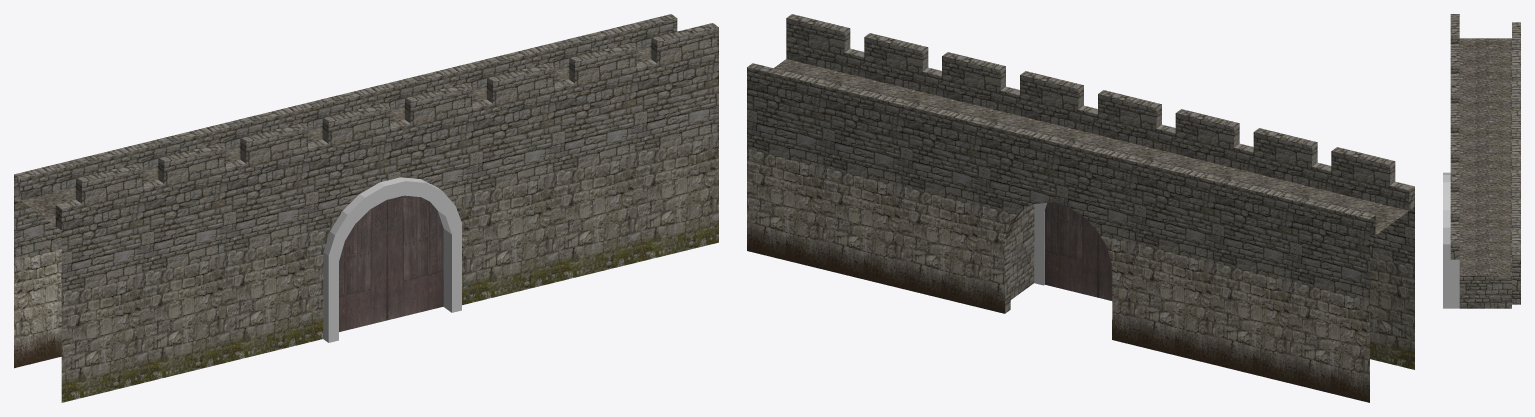
The model's file is poorlords_walls_gate_long.FBX.
3 renders of one model, left to right at view 1: azimuth 30°, elevation 25°; view 2: azimuth 150°, elevation 25°; view 3: azimuth 270°, elevation 25°, orthographic. The views are drawn at different scales.
Visible parts, largest first — view 1: poorlords_walls_gate_long_, Poorlords_wall_gate_doorright_001, Poorlords_wall_gate_arc_001, Poorlords_wall_gate_doorleft_001; view 2: poorlords_walls_gate_long_, Poorlords_wall_gate_doorright_001, Poorlords_wall_gate_arc_001, Poorlords_wall_gate_doorleft_001; view 3: poorlords_walls_gate_long_, Poorlords_wall_gate_arc_001.
Part boxes in pixels (left/top/right/bottom): poorlords_walls_gate_long_: left=14, top=14, right=718, bottom=402; Poorlords_wall_gate_doorright_001: left=387, top=195, right=443, bottom=320; Poorlords_wall_gate_arc_001: left=323, top=177, right=461, bottom=342; Poorlords_wall_gate_doorleft_001: left=339, top=200, right=387, bottom=331; poorlords_walls_gate_long_: left=747, top=14, right=1414, bottom=402; Poorlords_wall_gate_doorright_001: left=1044, top=202, right=1098, bottom=297; Poorlords_wall_gate_arc_001: left=1034, top=203, right=1046, bottom=285; Poorlords_wall_gate_doorleft_001: left=1098, top=233, right=1112, bottom=300; poorlords_walls_gate_long_: left=1450, top=14, right=1520, bottom=308; Poorlords_wall_gate_arc_001: left=1443, top=172, right=1459, bottom=308.
Bounding box in the file's own units: 2048 × 284 × 642.
